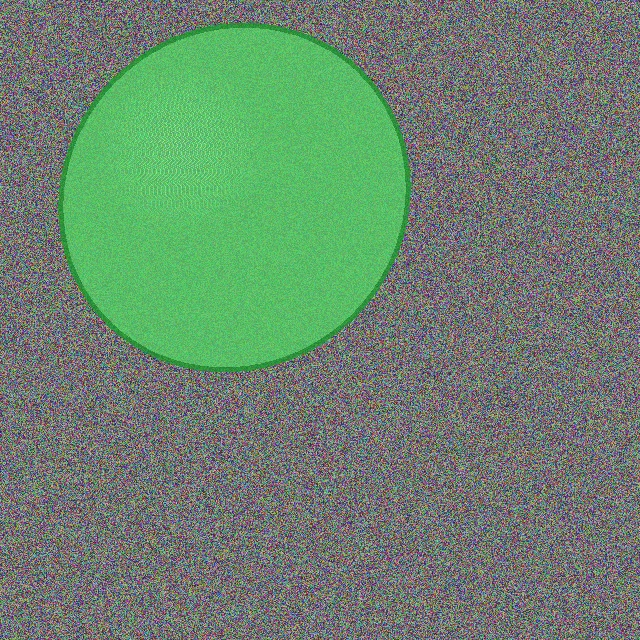lens: (61, 25, 407, 369)
